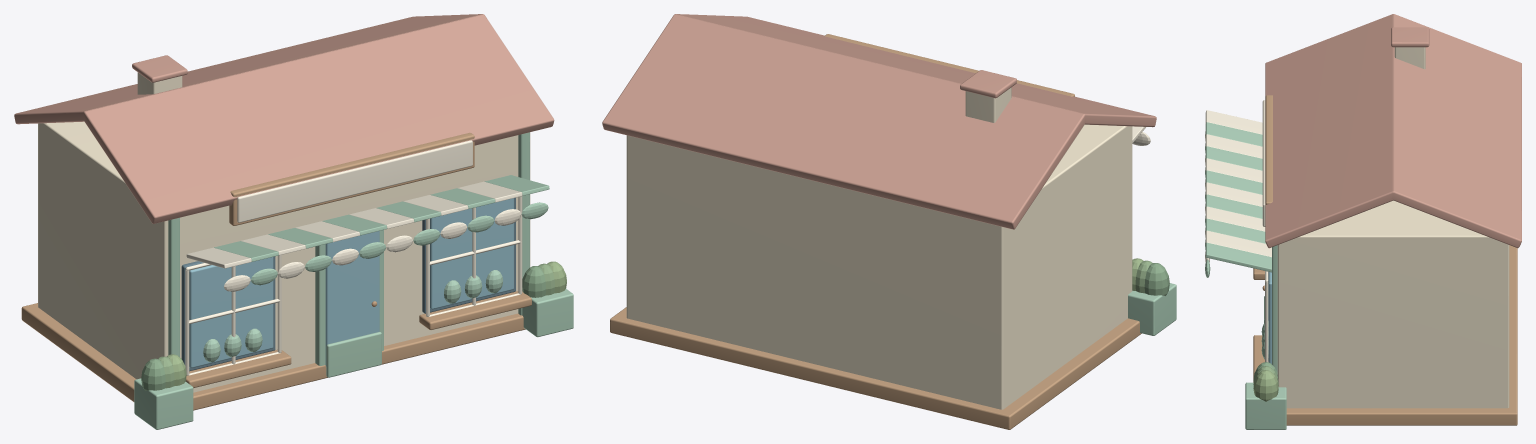
Rendered from shop-clover.glb.
The picture shows the model from 3 angles, left to right: view 1: azimuth 30°, elevation 25°; view 2: azimuth 150°, elevation 25°; view 3: azimuth 270°, elevation 25°; orthographic projection. The views are drawn at different scales.
Parts seen in each view (by area): view 1: Pitched tiled roof.001, Shop plaster, Shop foundation, Pitched tiled roof, Shop sign face, Window pane, Window pane.001, Glass door, Shop sign frame, Window planter, Door lower panel, Window planter.001 (+23 smaller); view 2: Shop plaster, Pitched tiled roof, Shop foundation, Pitched tiled roof.001, Window planter, Little chimney, Chimney cap, Shop sign frame, Planter leaf; view 3: Shop plaster, Pitched tiled roof.001, Pitched tiled roof, Shop foundation, Window planter.001, Striped fabric awning.011, Shop sign frame, Striped fabric awning.010, Chimney cap, Striped fabric awning.009, Striped fabric awning.008, Striped fabric awning (+14 smaller).
Boxes of the visible parts, left/top/right/bottom form: Pitched tiled roof.001: left=84, top=14, right=554, bottom=223; Shop plaster: left=38, top=121, right=530, bottom=392; Shop foundation: left=21, top=303, right=525, bottom=410; Pitched tiled roof: left=14, top=14, right=483, bottom=124; Shop sign face: left=237, top=140, right=472, bottom=222; Window pane: left=189, top=257, right=273, bottom=367; Window pane.001: left=430, top=198, right=513, bottom=309; Glass door: left=325, top=231, right=379, bottom=366; Shop sign frame: left=229, top=132, right=474, bottom=225; Window planter: left=134, top=378, right=193, bottom=429; Door lower panel: left=326, top=332, right=381, bottom=377; Window planter.001: left=522, top=289, right=573, bottom=337; Shop plaster: left=626, top=124, right=1132, bottom=409; Pitched tiled roof: left=602, top=14, right=1086, bottom=229; Shop foundation: left=610, top=307, right=1141, bottom=429; Pitched tiled roof.001: left=674, top=14, right=1156, bottom=127; Window planter: left=1128, top=283, right=1176, bottom=335; Little chimney: left=965, top=87, right=1011, bottom=122; Chimney cap: left=960, top=70, right=1016, bottom=98; Shop sign frame: left=824, top=34, right=1074, bottom=96; Planter leaf: left=1144, top=263, right=1169, bottom=295; Shop plaster: left=1277, top=200, right=1509, bottom=408; Pitched tiled roof.001: left=1265, top=14, right=1394, bottom=248; Pitched tiled roof: left=1391, top=14, right=1521, bottom=247; Shop foundation: left=1286, top=245, right=1517, bottom=425; Window planter.001: left=1245, top=382, right=1286, bottom=429; Striped fabric awning.011: left=1205, top=242, right=1271, bottom=272; Shop sign frame: left=1265, top=95, right=1272, bottom=204; Striped fabric awning.010: left=1205, top=230, right=1271, bottom=257; Chimney cap: left=1391, top=27, right=1429, bottom=47; Striped fabric awning.009: left=1205, top=218, right=1265, bottom=243; Striped fabric awning.008: left=1205, top=206, right=1265, bottom=231; Striped fabric awning: left=1205, top=110, right=1262, bottom=134.
Bounding box in the file's own units: 8.06 × 5.07 × 5.75.
